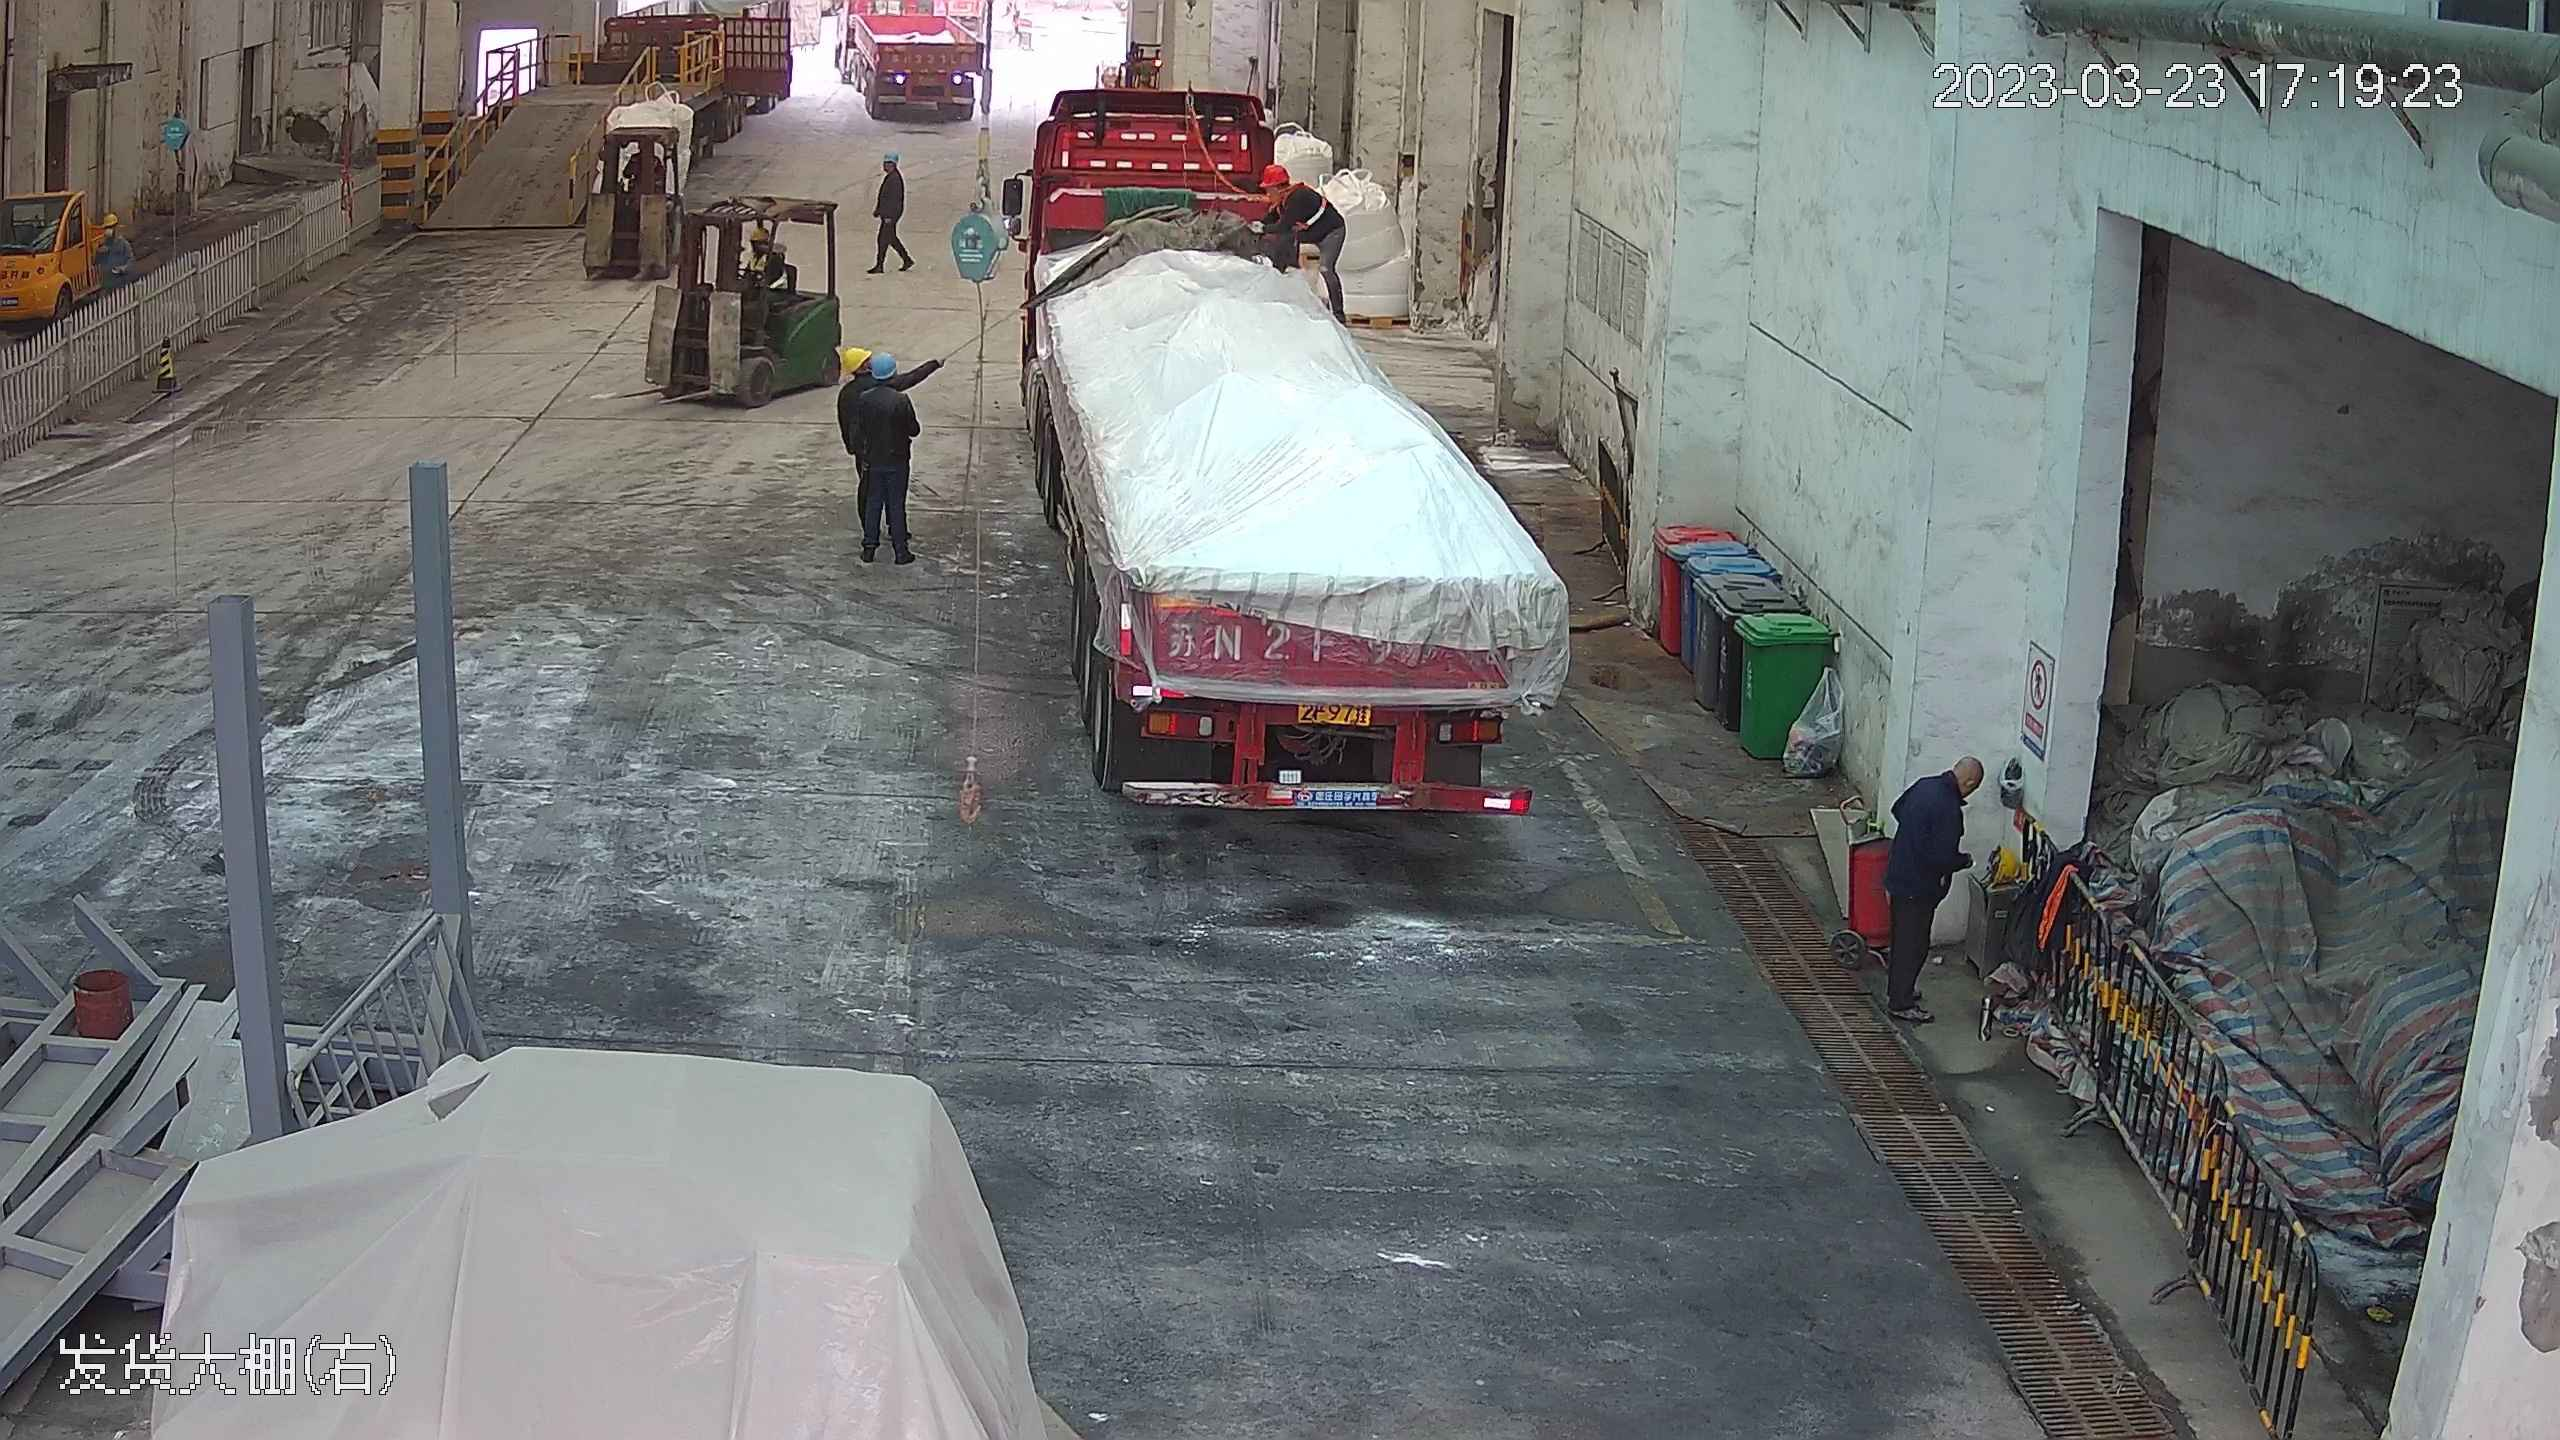belt: (1279, 171, 1332, 221)
head: (1907, 752, 1981, 824), (839, 346, 912, 413), (1264, 161, 1328, 213), (743, 225, 786, 273), (99, 214, 132, 254), (875, 148, 907, 188)
helmet: (1992, 837, 2024, 876), (838, 345, 872, 371), (870, 353, 896, 381), (100, 212, 121, 230), (882, 147, 900, 167), (748, 228, 770, 243)
people: (1878, 747, 1979, 1018), (837, 341, 929, 567), (1231, 162, 1353, 306), (866, 147, 915, 272), (91, 210, 135, 314)
truck: (1007, 61, 1573, 817), (832, 6, 985, 118)
